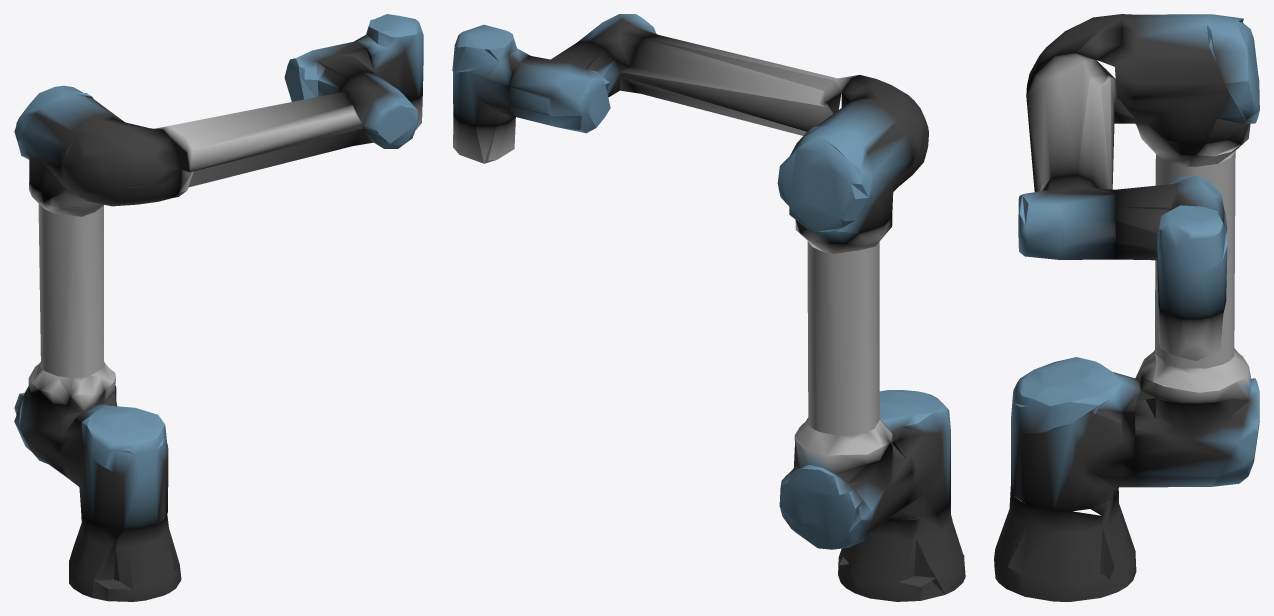
The picture shows the model from 3 angles, left to right: view 1: azimuth 30°, elevation 25°; view 2: azimuth 150°, elevation 25°; view 3: azimuth 270°, elevation 25°; orthographic projection. The views are drawn at different scales.
Parts seen in each view (by area): view 1: ur5e__l2; view 2: ur5e__l2; view 3: ur5e__l2.
Part boxes in pixels (bbox=[...]): ur5e__l2: bbox=[14, 14, 423, 601]; ur5e__l2: bbox=[452, 14, 965, 601]; ur5e__l2: bbox=[994, 14, 1259, 601].
Bounding box in the file's own units: 0.6048 × 0.6458 × 0.2817.
